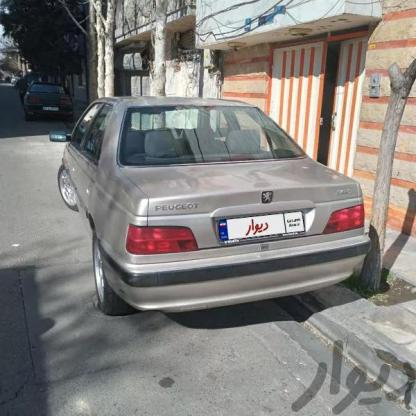Car: (52, 88, 374, 310), (26, 88, 74, 112)
